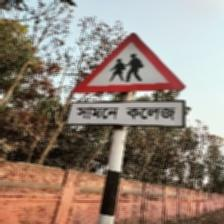College-in-front: (67, 22, 218, 132)
